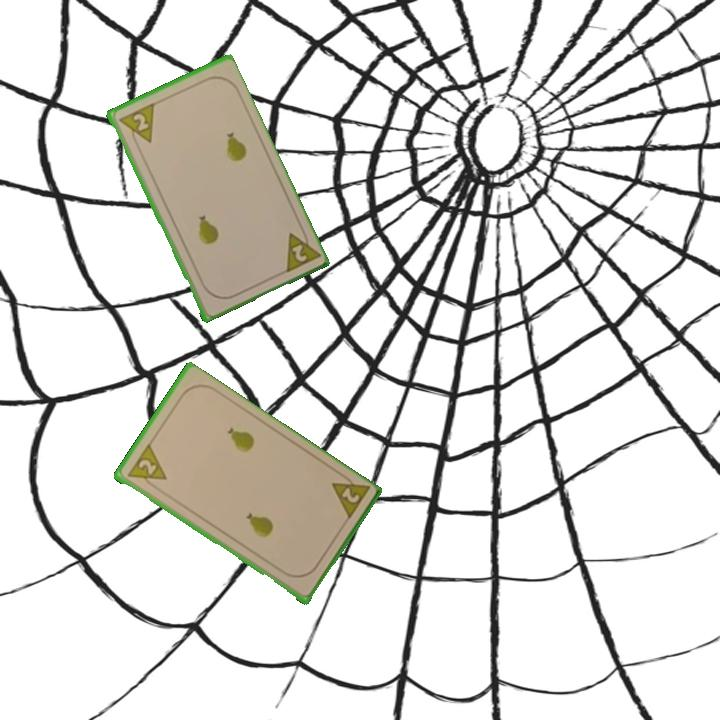2p: (327, 469, 372, 524), (123, 442, 169, 492), (279, 223, 321, 276), (115, 100, 157, 150)
